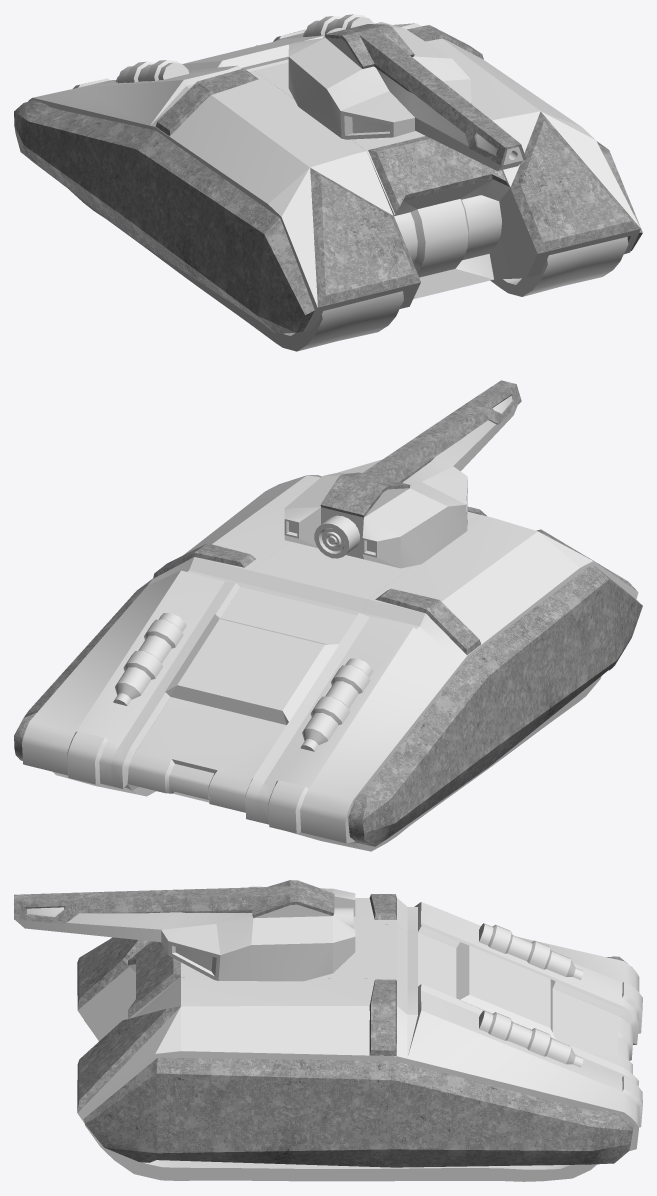
File: Tank3.fbx
3 views of the same model, one above another, from view 1: azimuth 30°, elevation 25°; view 2: azimuth 150°, elevation 25°; view 3: azimuth 270°, elevation 25° (orthographic). The views are drawn at different scales.
Parts seen in each view (by area): view 1: Frame_3.1_low, Armor_3_low, Frame_01_low, Frame_03_low, Tower_3_low, Tank_caterpillar_0_low, Armor_3.1_low, Frame_001_low, Muzzle_3_low, Frame_002_low, Cylinders_0_low; view 2: Frame_3.1_low, Frame_03_low, Armor_3_low, Tower_3_low, Armor_3.1_low, Cylinders_0_low, Frame_002_low, Muzzle_3_low, Tank_caterpillar_0_low, Battery_3_low; view 3: Armor_3_low, Frame_3.1_low, Frame_03_low, Tower_3_low, Tank_caterpillar_0_low, Armor_3.1_low, Frame_01_low, Cylinders_0_low, Muzzle_3_low, Frame_002_low, Frame_001_low.
Boxes of the visible parts, <box> form: Frame_3.1_low: <box>28,23,640,331</box>; Armor_3_low: <box>14,100,642,333</box>; Frame_01_low: <box>310,111,640,307</box>; Frame_03_low: <box>182,35,510,299</box>; Tower_3_low: <box>288,22,471,139</box>; Tank_caterpillar_0_low: <box>69,189,628,351</box>; Armor_3.1_low: <box>325,24,526,165</box>; Frame_001_low: <box>368,136,509,214</box>; Muzzle_3_low: <box>376,68,523,170</box>; Frame_002_low: <box>155,25,483,136</box>; Cylinders_0_low: <box>115,14,373,83</box>; Frame_3.1_low: <box>22,475,638,843</box>; Frame_03_low: <box>127,511,480,812</box>; Armor_3_low: <box>14,564,642,846</box>; Tower_3_low: <box>284,459,467,568</box>; Armor_3.1_low: <box>320,380,521,517</box>; Cylinders_0_low: <box>113,613,373,751</box>; Frame_002_low: <box>153,543,480,654</box>; Muzzle_3_low: <box>402,406,517,483</box>; Tank_caterpillar_0_low: <box>53,676,601,851</box>; Battery_3_low: <box>314,515,359,558</box>; Armor_3_low: <box>83,956,633,1167</box>; Frame_3.1_low: <box>77,898,642,1150</box>; Frame_03_low: <box>128,924,632,1074</box>; Tower_3_low: <box>161,886,355,981</box>; Tank_caterpillar_0_low: <box>84,1020,596,1181</box>; Armor_3.1_low: <box>14,880,334,923</box>; Frame_01_low: <box>77,937,180,1112</box>; Cylinders_0_low: <box>479,923,583,1067</box>; Muzzle_3_low: <box>15,912,250,942</box>; Frame_002_low: <box>369,894,396,1055</box>; Frame_001_low: <box>128,941,180,1018</box>.
Size of the model in its own units: 648 by 384 by 994.
